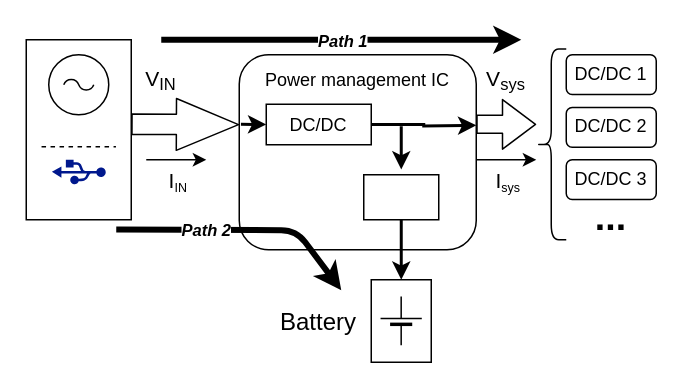
This 683x389 diagram has some shape labels left out. Here are the shapes that lost their labels. From the top down, the centre of each, then its label:
[78,84]: Adapter
[78,171]: USB power
[400,196]: Battery FET
